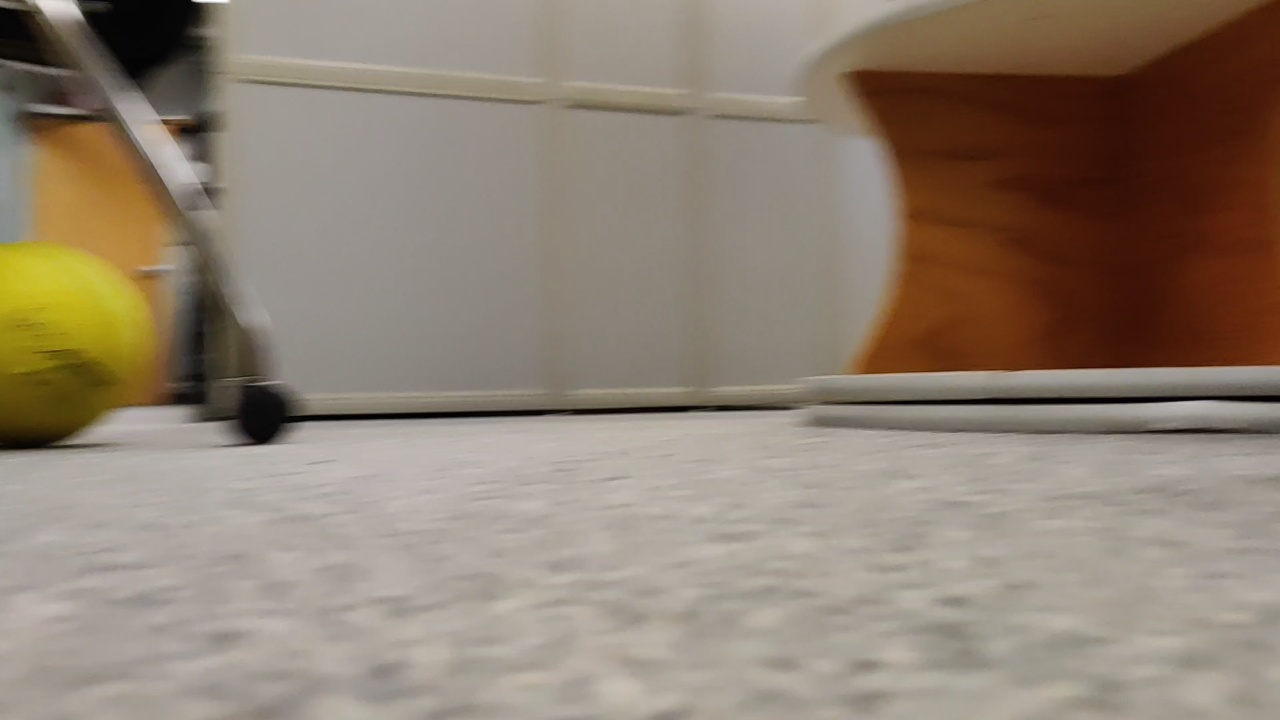Ball: (6, 246, 155, 444)
